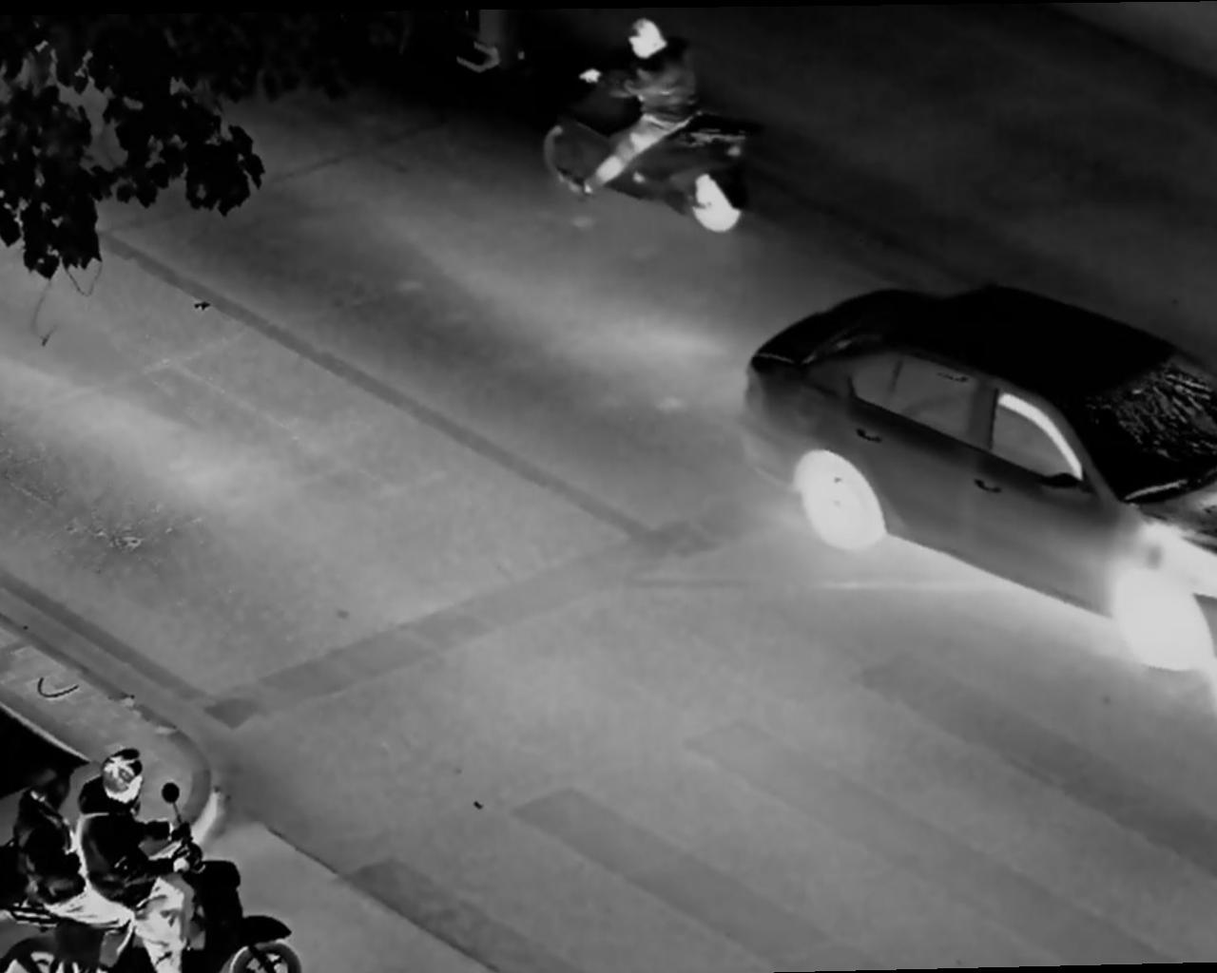person: (576, 19, 734, 231), (73, 744, 194, 963), (12, 760, 104, 946)
